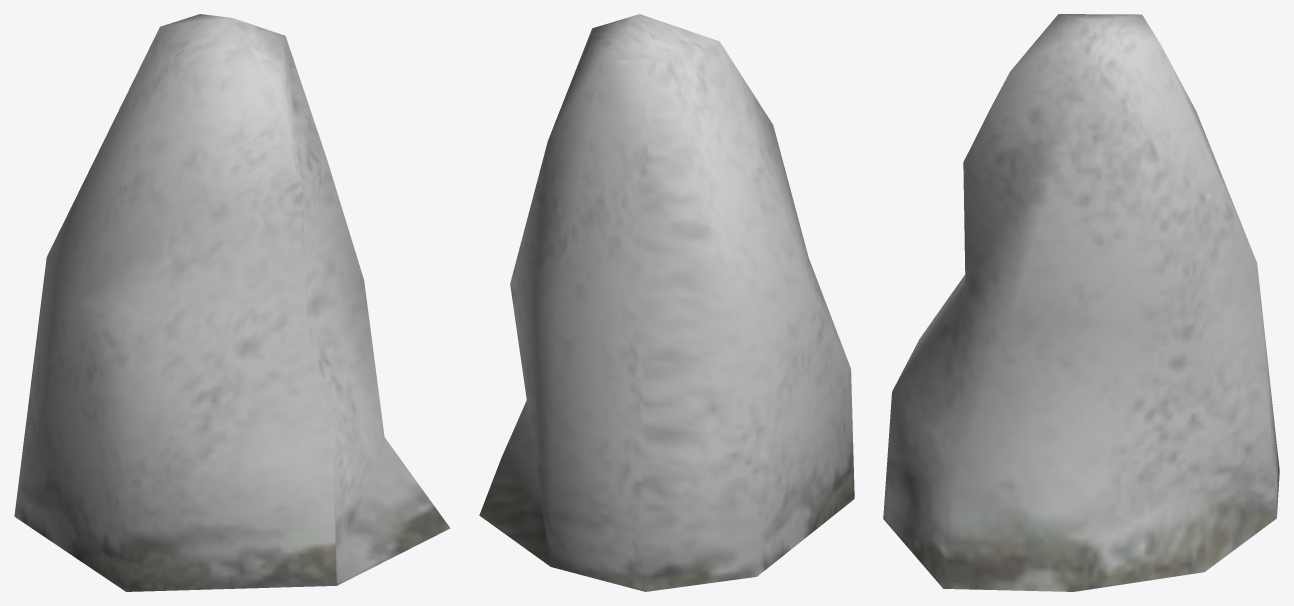
File: general_obj_stone01_lod_01.fbx
The picture shows the model from 3 angles, left to right: view 1: azimuth 30°, elevation 25°; view 2: azimuth 150°, elevation 25°; view 3: azimuth 270°, elevation 25°; orthographic projection. The views are drawn at different scales.
Visible parts, largest first — view 1: Sphere01; view 2: Sphere01; view 3: Sphere01.
Boxes of the visible parts, <box> form: Sphere01: <box>14,14,450,591</box>; Sphere01: <box>479,14,854,591</box>; Sphere01: <box>883,14,1279,591</box>.
Bounding box in the file's own units: 2.21 × 3.28 × 2.37.
